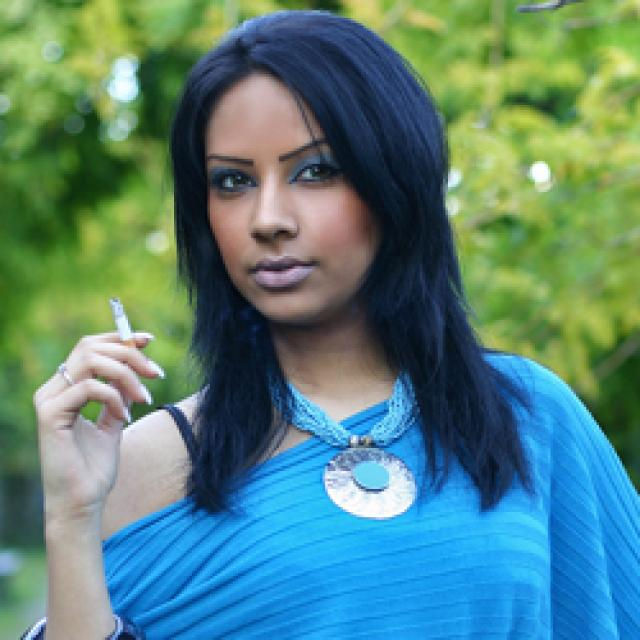Smooking: (107, 293, 144, 344)
